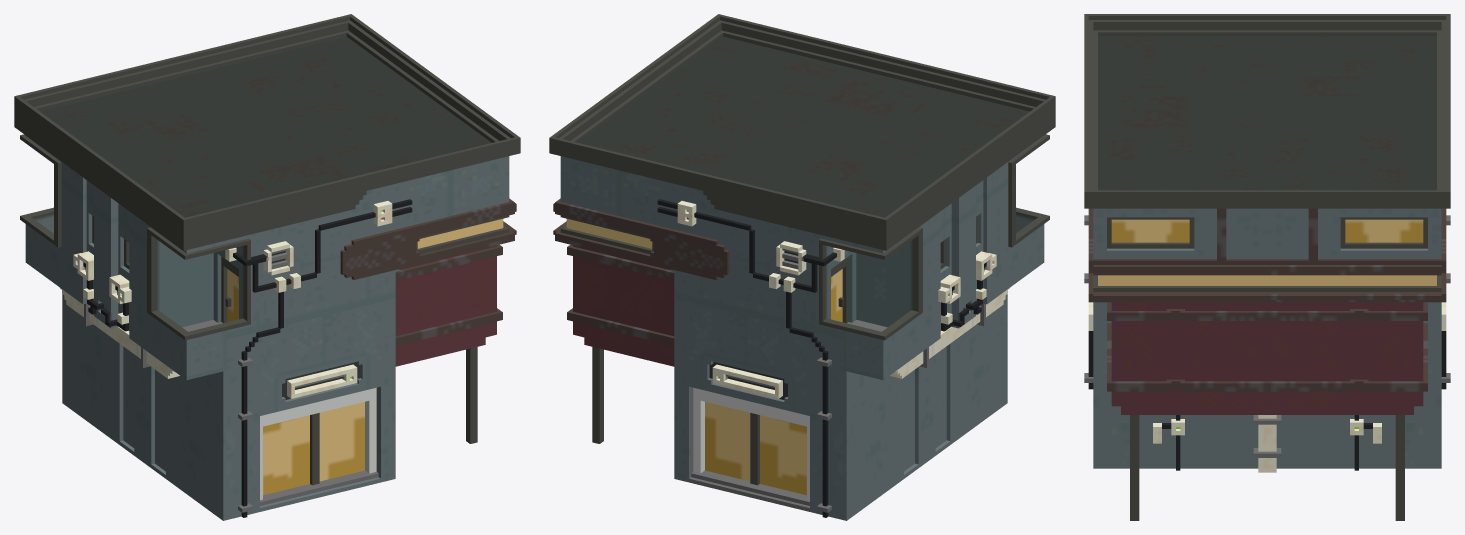
Rendered from BuildingMain.fbx.
3 views of the same model, side by side, from view 1: azimuth 30°, elevation 25°; view 2: azimuth 150°, elevation 25°; view 3: azimuth 270°, elevation 25° (orthographic). The views are drawn at different scales.
Parts seen in each view (by area): view 1: BuildingMain; view 2: BuildingMain; view 3: BuildingMain.
Part boxes in pixels (<box>): BuildingMain: <box>14,14,520,520</box>; BuildingMain: <box>549,14,1055,520</box>; BuildingMain: <box>1084,14,1450,520</box>.
Size of the model in its own units: 92 by 82 by 80.
